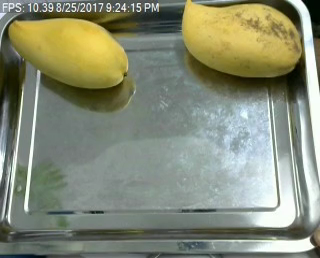Mango: (175, 0, 304, 78), (5, 15, 131, 88)
